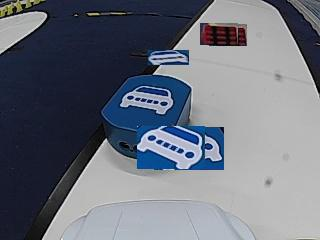safety: (121, 85, 176, 114)
